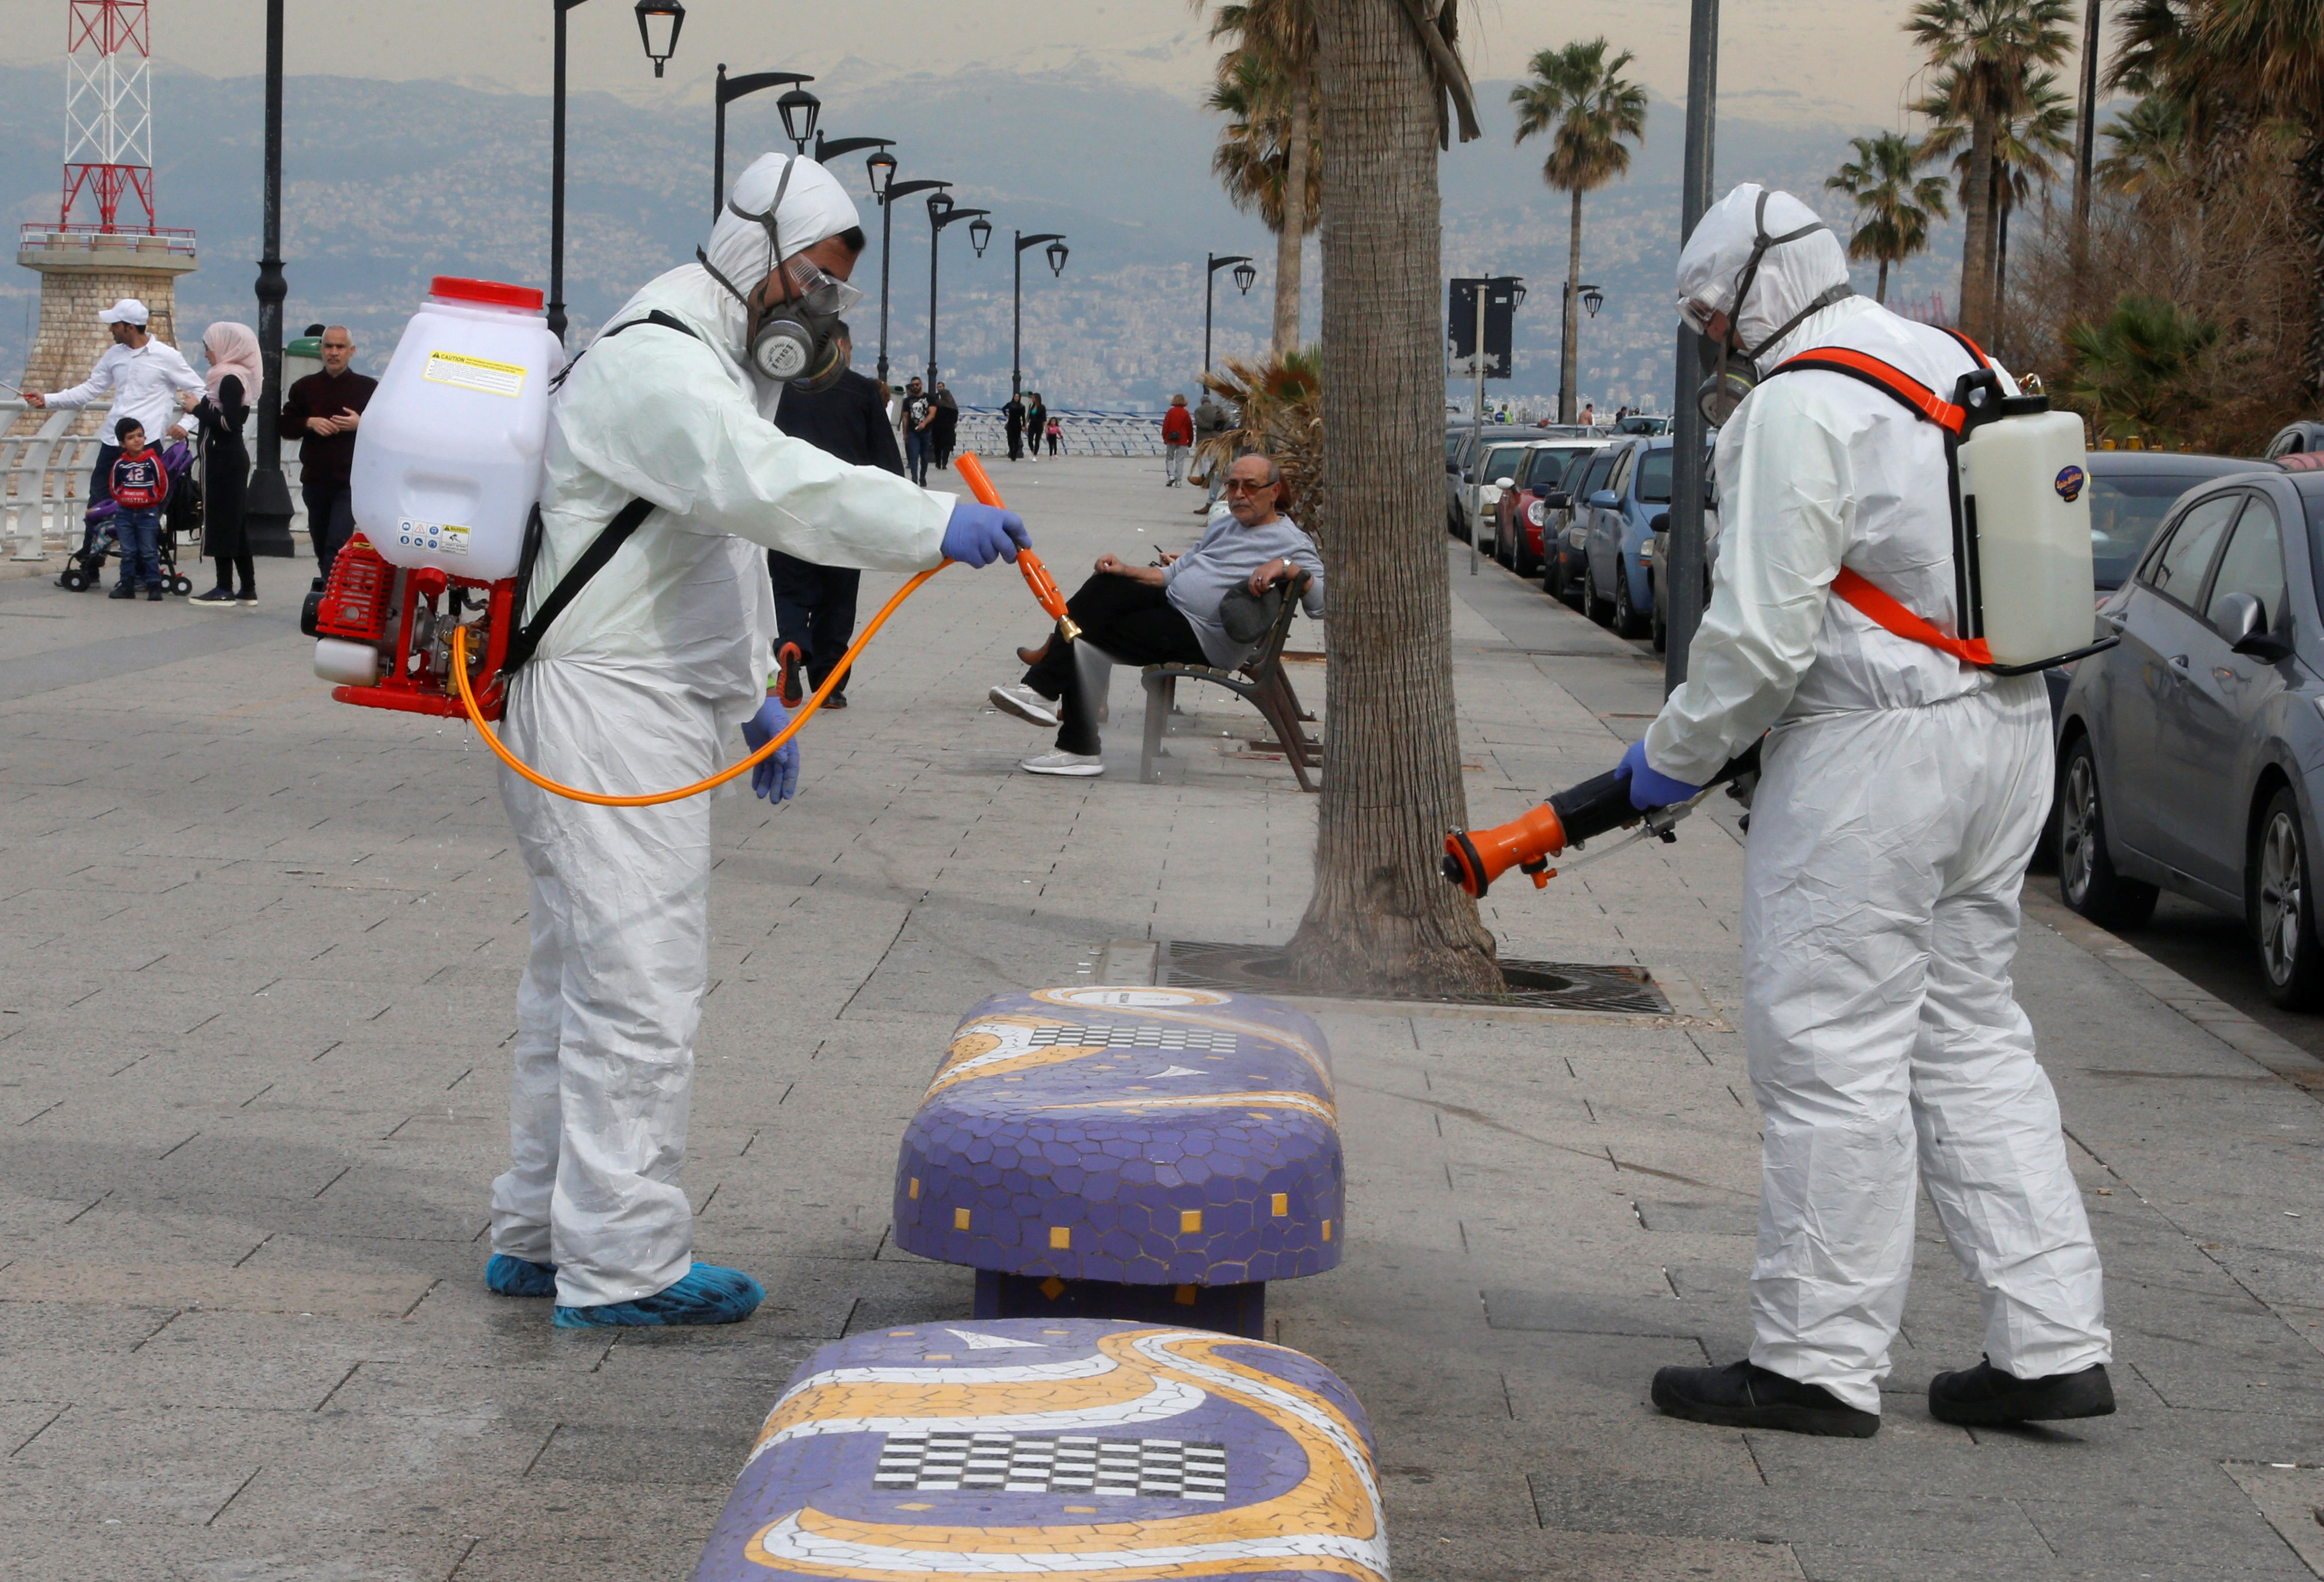Coverall: (1642, 182, 2163, 1382), (460, 131, 938, 1291)
Face_Shield: (744, 245, 887, 398)
Gloves: (930, 488, 1041, 584), (739, 710, 828, 813)
